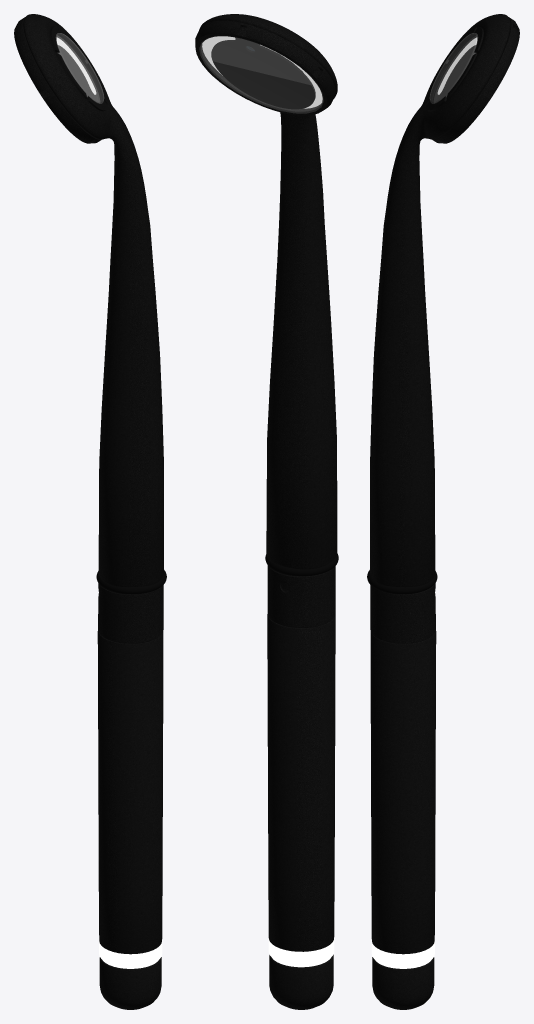
The model's file is Halo-Model.glb.
3 views of the same model, side by side, from view 1: azimuth 90°, elevation 25°; view 2: azimuth 150°, elevation 25°; view 3: azimuth 270°, elevation 25° (orthographic). The views are drawn at different scales.
Parts seen in each view (by area): view 1: handle, softgrip, coneSocket.001, end, border, glass, titanium, Halo, rubberBand; view 2: handle, softgrip, Circle, blackScreen, border, coneSocket.001, end, Halo, lightUpper, rubberBand; view 3: handle, softgrip, coneSocket.001, end, border, glass, titanium, Halo, rubberBand.
Part boxes in pixels (x1,y1,x2,y2): handle: (23, 14, 163, 587); softgrip: (97, 630, 163, 953); coneSocket.001: (98, 583, 163, 643); end: (99, 957, 161, 1009); border: (14, 17, 101, 143); glass: (56, 33, 103, 103); titanium: (50, 27, 107, 111); Halo: (99, 941, 162, 968); rubberBand: (96, 570, 166, 594); handle: (199, 14, 337, 569); softgrip: (267, 614, 335, 951); Circle: (199, 36, 323, 113); blackScreen: (211, 37, 315, 109); border: (195, 20, 335, 115); coneSocket.001: (267, 565, 335, 627); end: (269, 954, 333, 1009); Halo: (268, 938, 334, 967); lightUpper: (202, 36, 322, 108); rubberBand: (265, 553, 338, 576); handle: (370, 14, 510, 587); softgrip: (370, 630, 436, 953); coneSocket.001: (370, 583, 435, 643); end: (372, 957, 434, 1009); border: (432, 17, 519, 143); glass: (430, 33, 477, 103); titanium: (426, 27, 483, 111); Halo: (371, 941, 434, 968); rubberBand: (367, 570, 437, 594).
Bounding box in the file's own units: 0.0397 × 0.296 × 0.0417.
6 materials, 2 textured.
